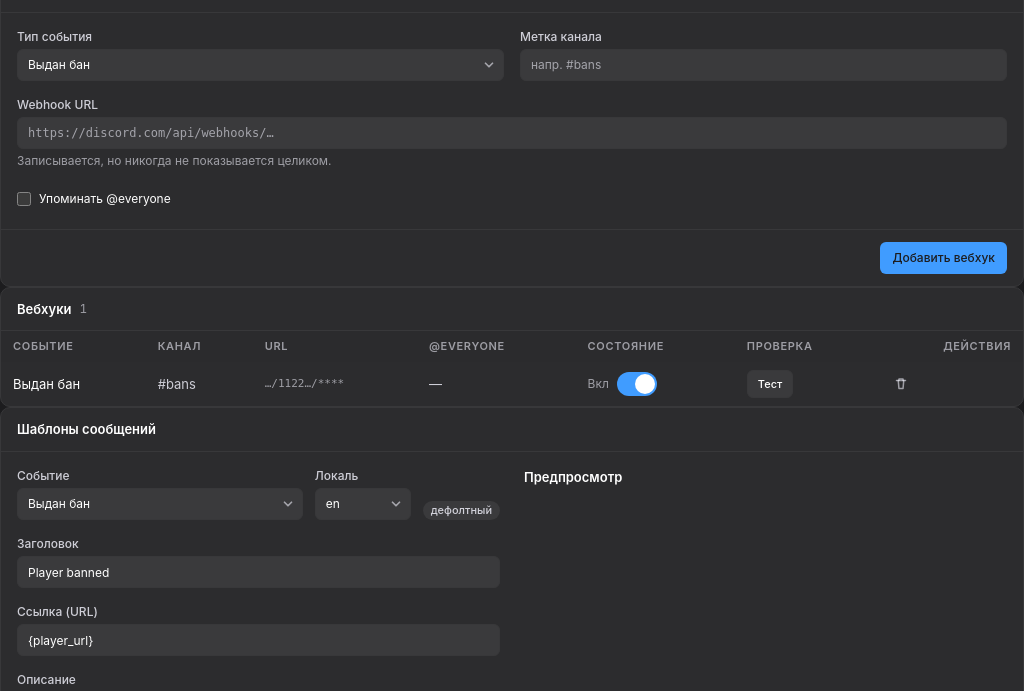
Test case: Тест button › shows the specific discord_error message on a 502
(page scrolled)
Click the button "Тест": (770, 384) [747,370,793,398]
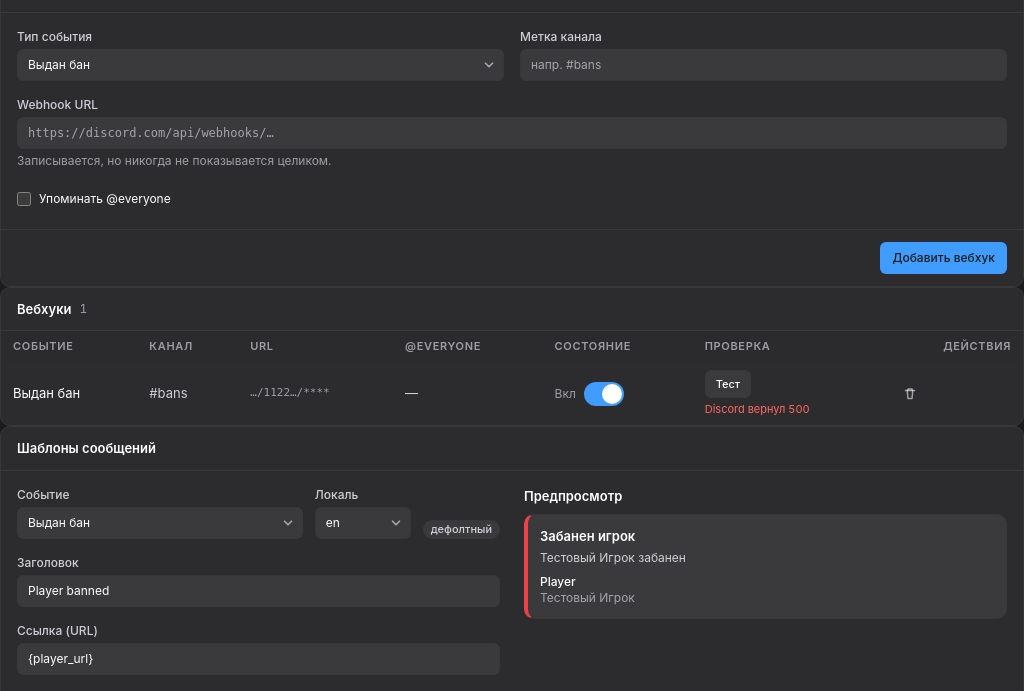
Expected: the text "Discord вернул 500" is shown, [705,402,810,417]
